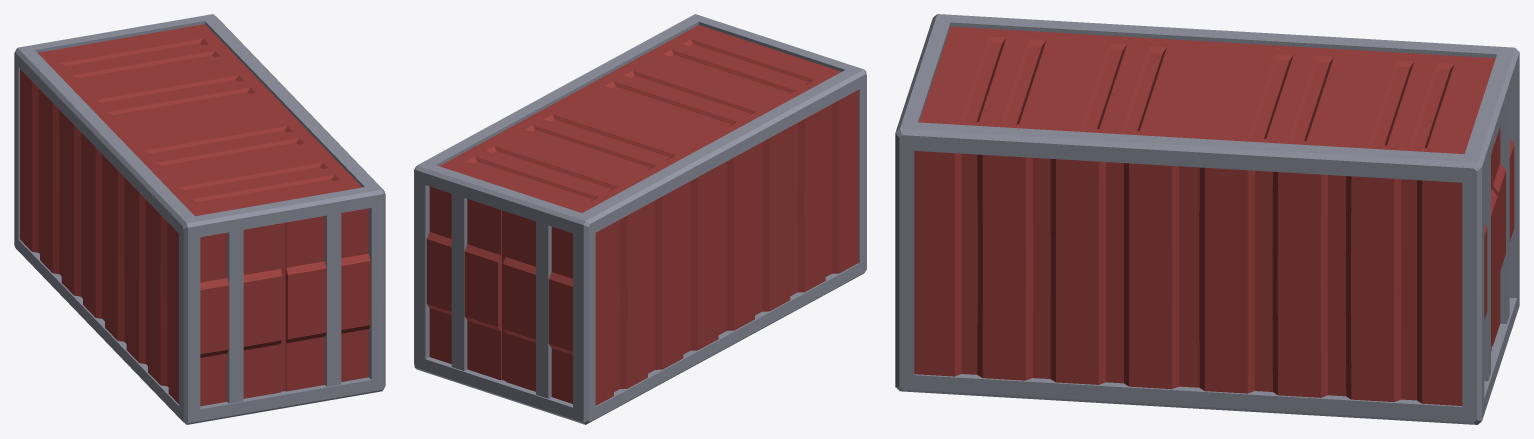
File: Container_Obs.fbx
3 renders of one model, left to right at view 1: azimuth 30°, elevation 25°; view 2: azimuth 150°, elevation 25°; view 3: azimuth 270°, elevation 25°, orthographic. The views are drawn at different scales.
Parts seen in each view (by area): view 1: Container_Long; view 2: Container_Long; view 3: Container_Long.
Part boxes in pixels (x1,y1,x2,y2): Container_Long: (14, 14, 385, 424); Container_Long: (414, 14, 866, 424); Container_Long: (895, 14, 1519, 424).
Bounding box in the file's own units: 53.13 × 42.61 × 91.9.
